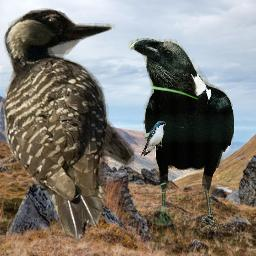Crow: (128, 38, 234, 230)
Swallow: (140, 121, 166, 157)
Woodpecker: (3, 7, 140, 246)
